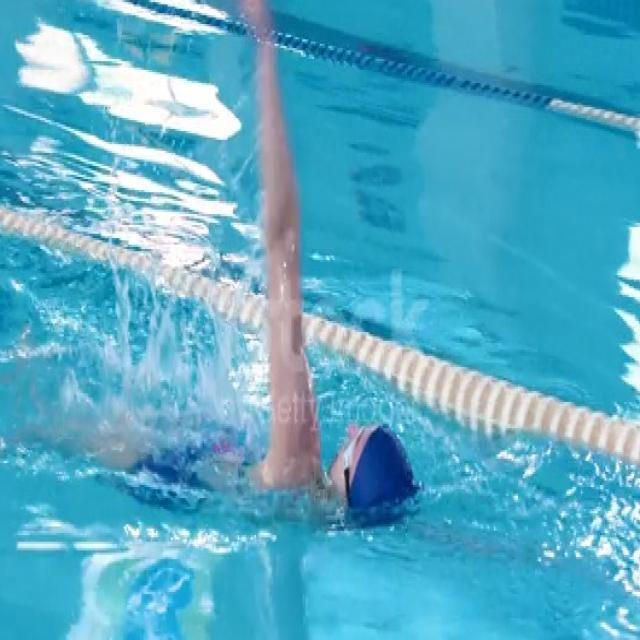Swimming: (146, 376, 427, 526)
